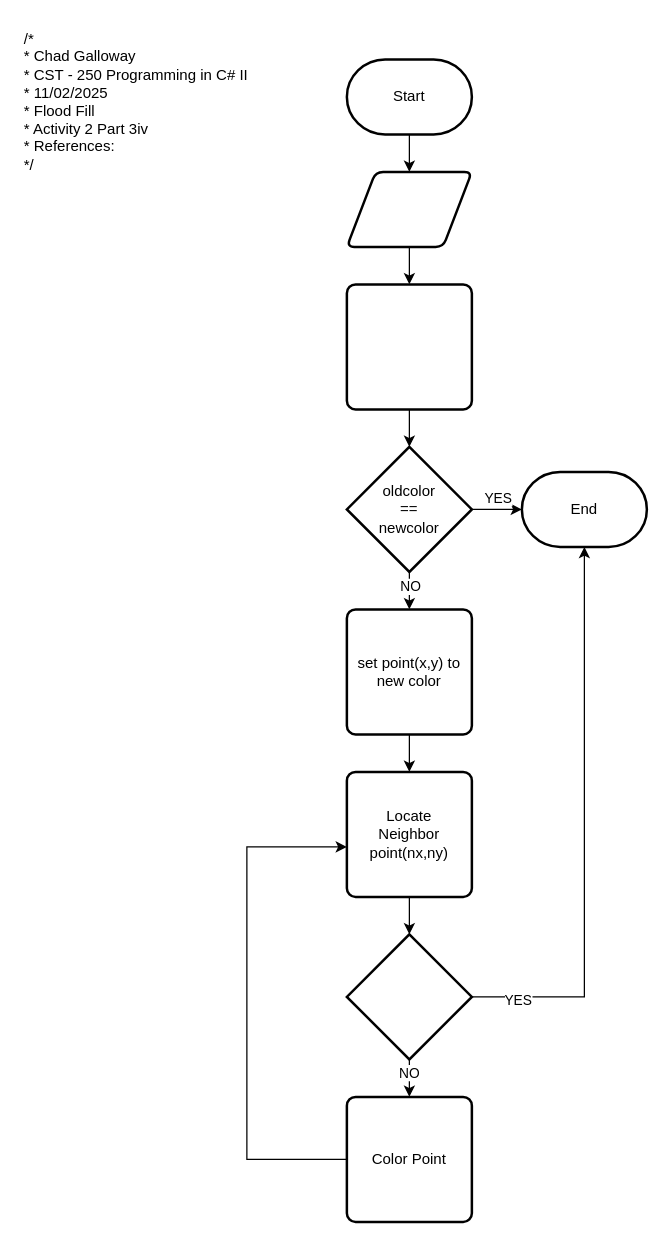
This 669x1244 diagram has some shape labels left out. Here are the shapes that lost their labels. From the top down, the centre of each, then its label:
(x=408, y=209): User enter newcolor, x, y
(x=408, y=346): oldcolor = point(x,y)
(x=408, y=996): point(nx, ny) == newcolor
